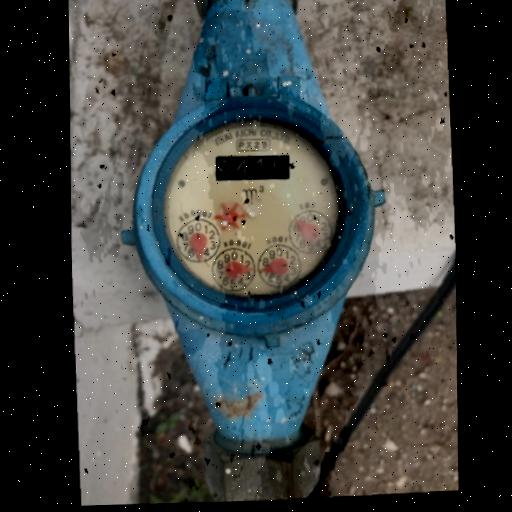0: (271, 155, 290, 179)
1: (253, 156, 271, 179)
4: (235, 156, 253, 180)
9: (215, 157, 234, 181)
border_water_meter_number: (215, 153, 290, 183)
